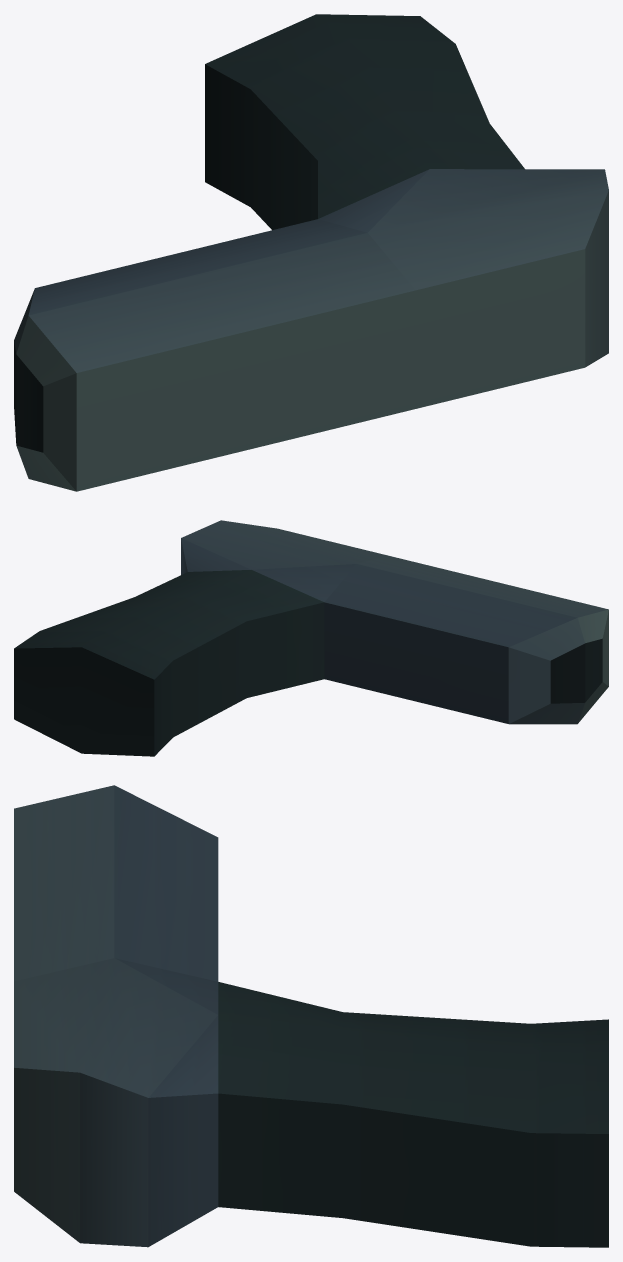
Rendered from pistol_right.fbx.
3 views of the same model, one above another, from view 1: azimuth 30°, elevation 25°; view 2: azimuth 150°, elevation 25°; view 3: azimuth 270°, elevation 25° (orthographic). The views are drawn at different scales.
Visible parts, largest first — view 1: pistol_right; view 2: pistol_right; view 3: pistol_right.
Part boxes in pixels (<box>): pistol_right: <box>14,14,608,491</box>; pistol_right: <box>14,520,608,756</box>; pistol_right: <box>14,785,608,1247</box>.
Bounding box in the file's own units: 41.74 × 10.17 × 32.15.
Materials: 1 (1 with a texture image).
